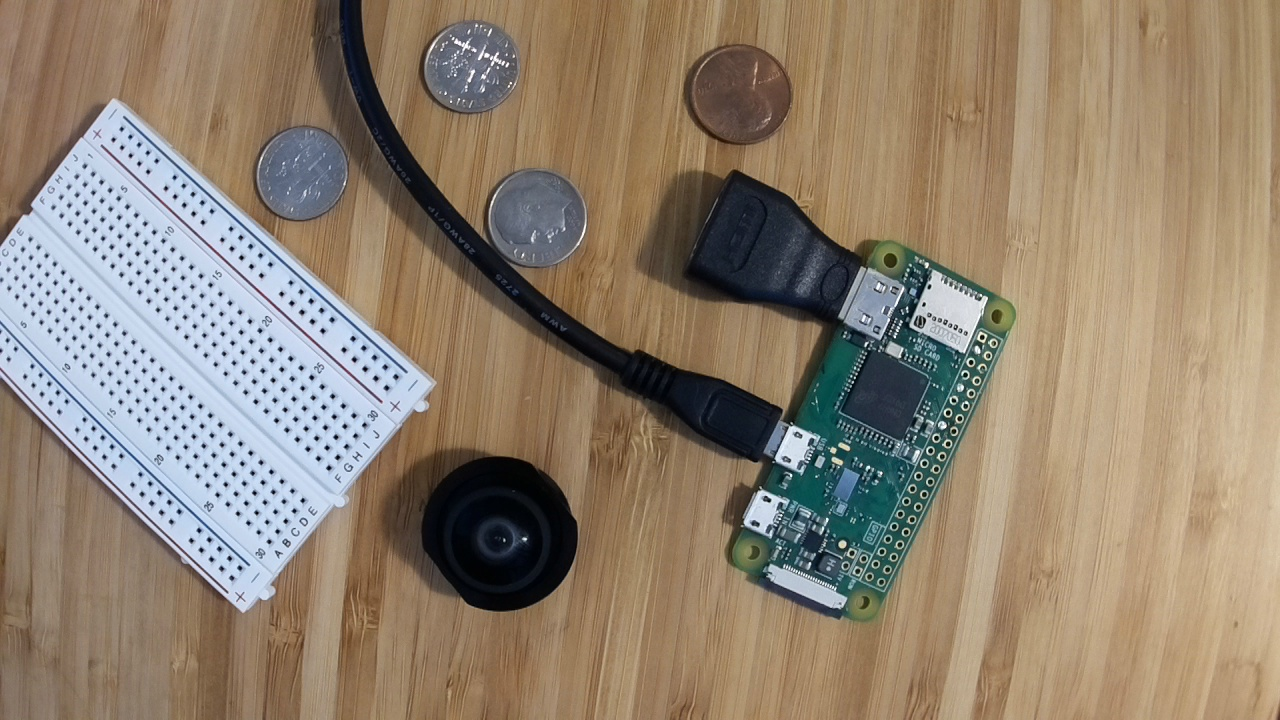dime: (485, 167, 587, 267), (420, 17, 522, 115), (254, 124, 350, 222)
penny: (684, 41, 796, 145)
